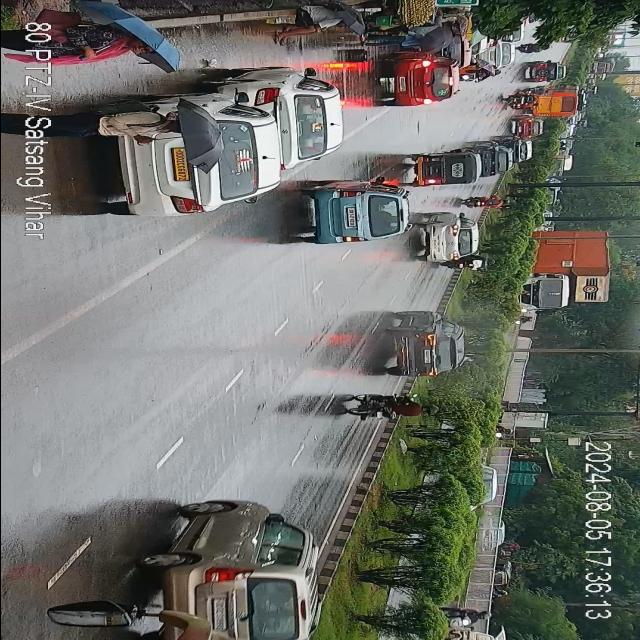2-wheelers: (348, 391, 436, 431), (442, 600, 488, 629), (460, 193, 508, 214), (458, 62, 496, 84), (502, 94, 540, 112), (515, 41, 553, 55)
auto: (408, 150, 476, 188)
bus: (530, 85, 578, 121)
car: (98, 74, 276, 218), (161, 495, 321, 640), (203, 66, 344, 170), (298, 182, 411, 245), (383, 312, 467, 382), (384, 49, 457, 107), (418, 211, 476, 263), (460, 140, 510, 180), (477, 38, 512, 79), (500, 115, 550, 138), (524, 59, 563, 84), (513, 138, 532, 166)
pedestrian: (60, 105, 216, 176), (55, 5, 189, 72), (268, 2, 361, 46), (366, 16, 466, 54)
truck: (514, 228, 612, 313)
